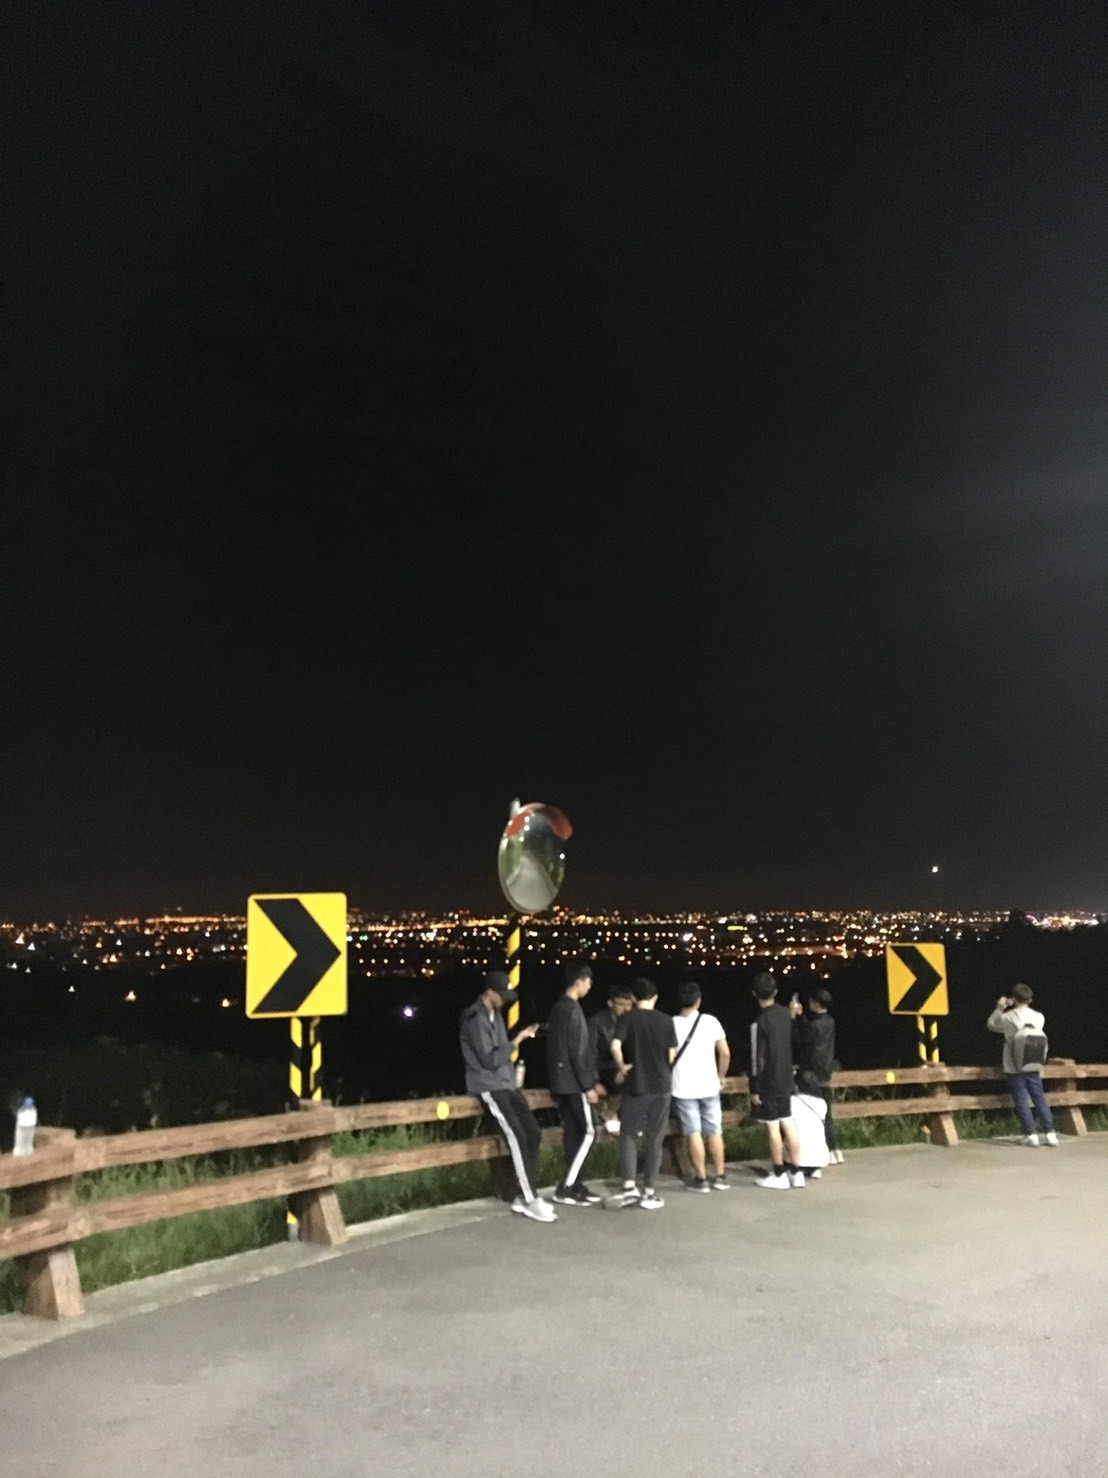people: (459, 973, 547, 1231), (547, 966, 617, 1219), (674, 985, 733, 1195), (621, 978, 671, 1209), (747, 985, 795, 1195), (995, 981, 1055, 1140), (802, 985, 843, 1162), (609, 978, 633, 1145)
